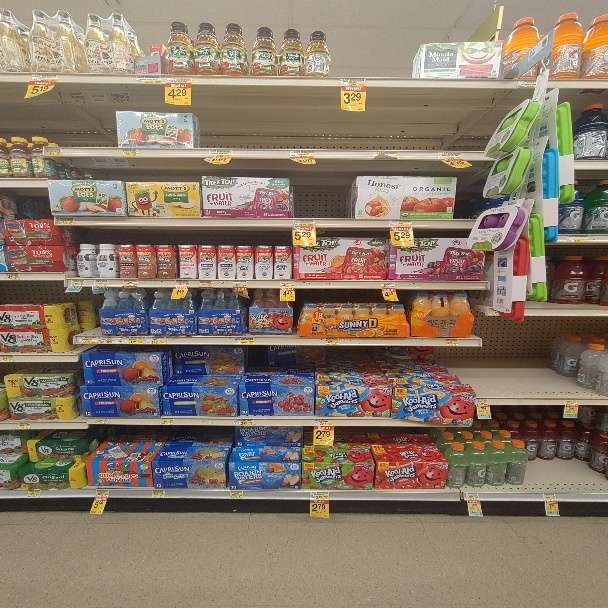All PRICE TAGS: (339, 78, 367, 86), (136, 75, 162, 83), (31, 74, 59, 81), (566, 235, 590, 243), (516, 80, 537, 89), (167, 77, 192, 84), (290, 150, 315, 157), (44, 147, 63, 156), (76, 336, 100, 343), (232, 337, 255, 344), (209, 149, 232, 156), (292, 219, 315, 226), (389, 220, 412, 227), (57, 217, 75, 225), (438, 152, 462, 158), (309, 492, 329, 499), (543, 492, 557, 502), (234, 419, 254, 426), (465, 492, 480, 501), (146, 336, 165, 343), (122, 148, 138, 156), (127, 336, 145, 343), (4, 272, 19, 280), (93, 418, 109, 425), (228, 491, 243, 498), (16, 422, 31, 429), (69, 279, 86, 285), (151, 490, 165, 497), (95, 490, 109, 497), (325, 338, 339, 345), (160, 418, 174, 425), (0, 356, 16, 362), (232, 281, 248, 287), (315, 420, 334, 425), (106, 337, 125, 342), (28, 490, 41, 497), (565, 398, 578, 405), (95, 279, 110, 285), (124, 280, 139, 286), (175, 280, 190, 286), (381, 281, 396, 287), (445, 338, 459, 344), (477, 398, 489, 405), (199, 280, 213, 286), (280, 281, 294, 287)
